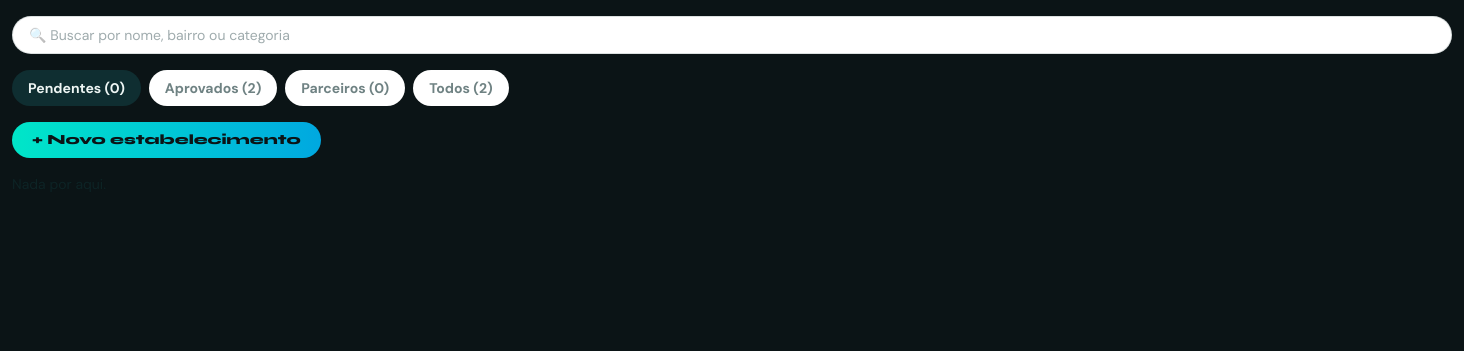
Test: PlacesTabs › search filters by name, ignoring case and accents
Click the button "Todos (2)".
click(461, 88)  # box [413,70,509,106]
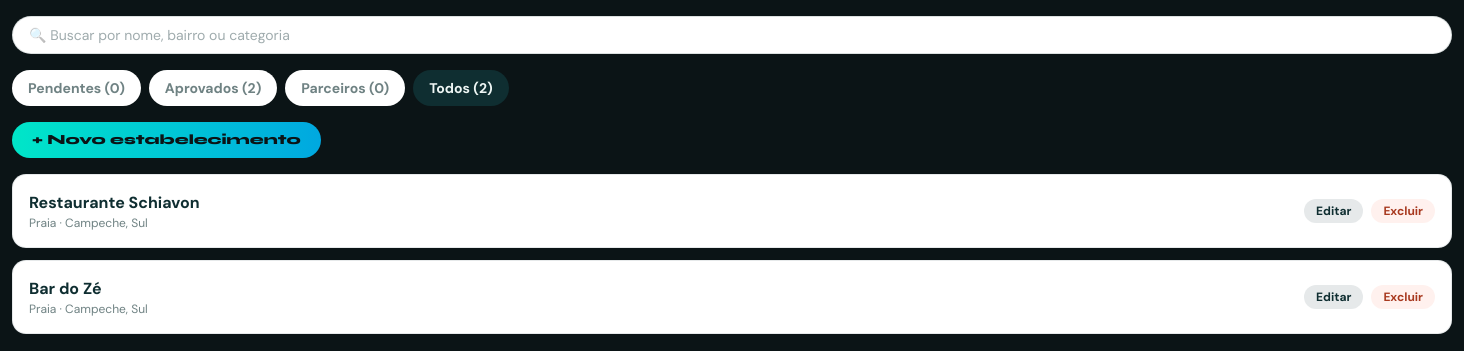
Type "ze" into the search field named "Buscar estabelecimento".
click(732, 35); type("ze")  # box [12,16,1452,54]
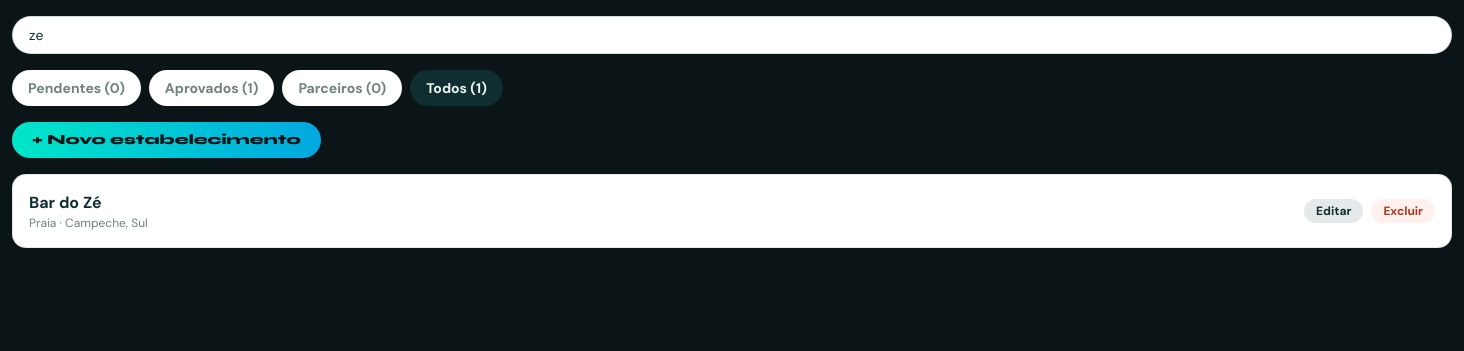
Now the text "Bar do Zé" is shown, box [29,192,102,213]
Now the text "Restaurante Schiavon" is gone
